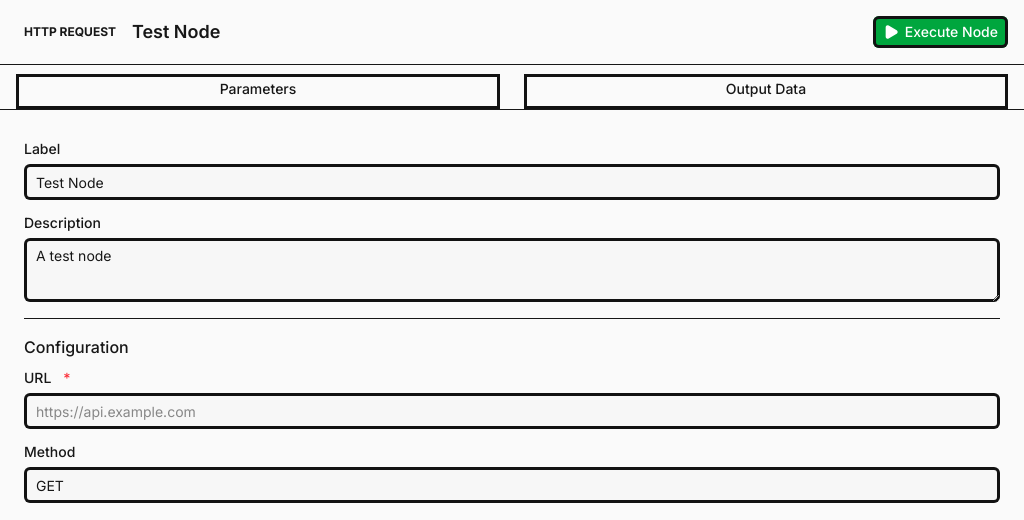
Test case: NodeEditor › handles execution error
Click the button "Execute Node".
click(940, 32)  # box x1=873 y1=16 x2=1008 y2=48
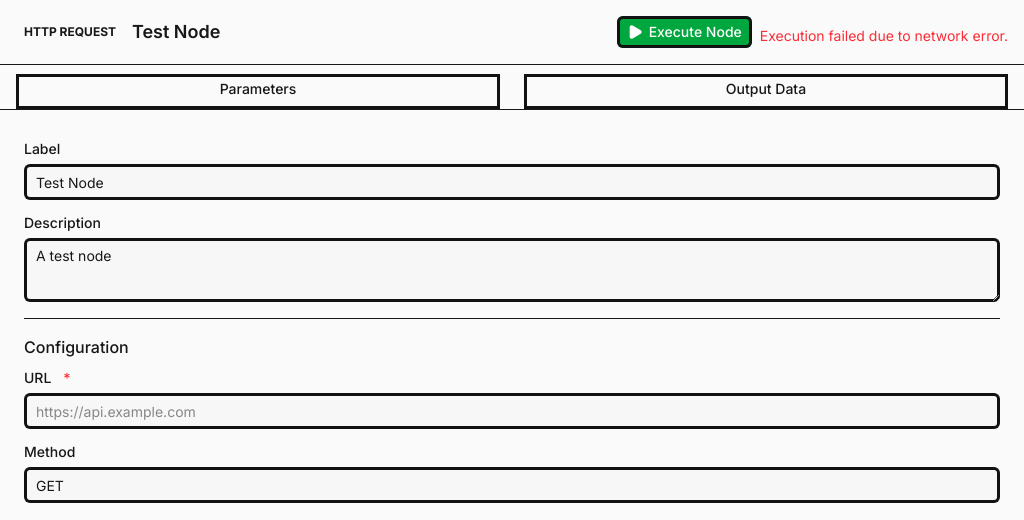
Now the text "Execution failed due to network error." is shown, box x1=760 y1=26 x2=1008 y2=46
